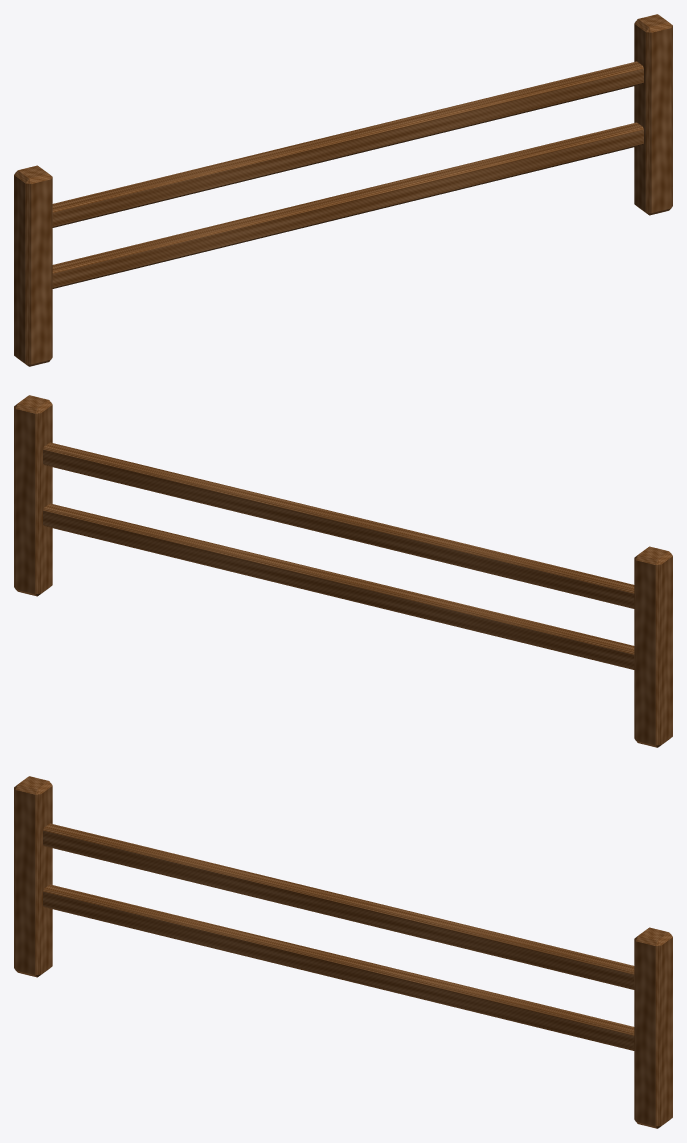
Rendered from pasture_fence.glb.
The picture shows the model from 3 angles, top to bottom: view 1: azimuth 30°, elevation 25°; view 2: azimuth 150°, elevation 25°; view 3: azimuth 330°, elevation 25°; orthographic projection.
Visible parts, largest first — view 1: pasture_fence.002; view 2: pasture_fence.002; view 3: pasture_fence.002.
Part boxes in pixels (x1,y1,x2,y2): pasture_fence.002: (14, 14, 672, 366); pasture_fence.002: (14, 395, 672, 747); pasture_fence.002: (14, 776, 672, 1128).
Bounding box in the file's own units: 5.22 × 1.45 × 0.22.
1 material, 1 textured.
